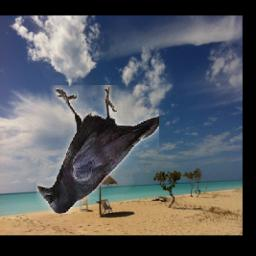Crow: (36, 85, 159, 214)
